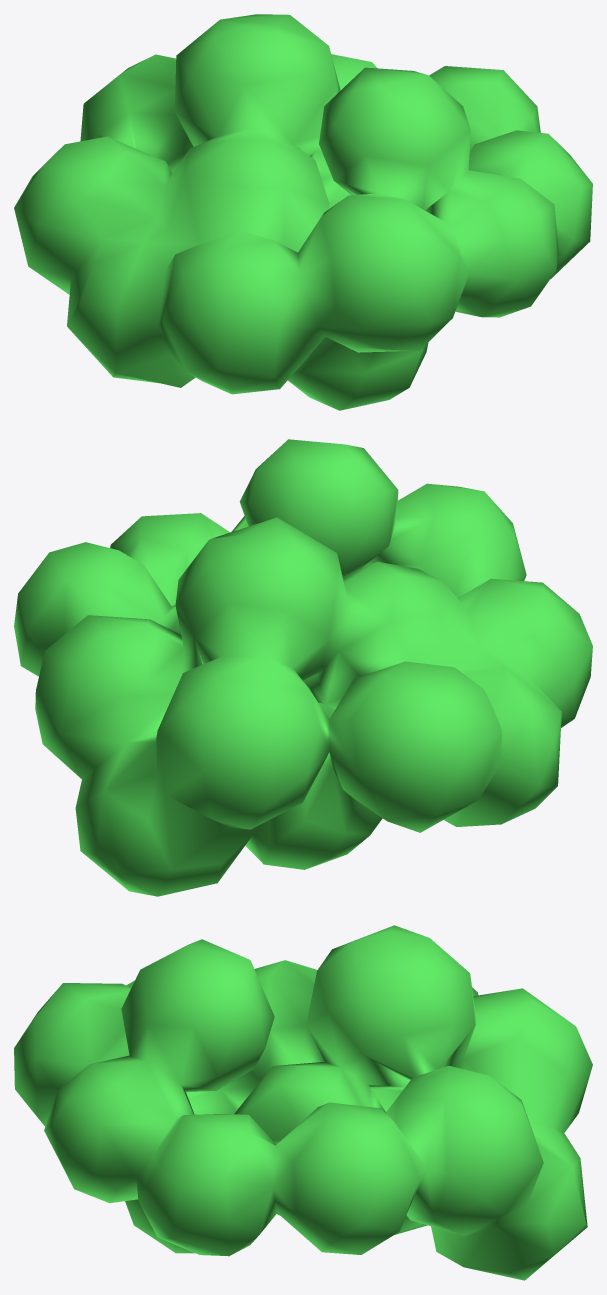
The model's file is SM_town_applejoin.fbx.
3 renders of one model, top to bottom at view 1: azimuth 30°, elevation 25°; view 2: azimuth 150°, elevation 25°; view 3: azimuth 270°, elevation 25°, orthographic. The views are drawn at different scales.
Parts seen in each view (by area): view 1: apple_join_low; view 2: apple_join_low; view 3: apple_join_low.
Boxes of the visible parts, box(x1,y1,x2,y2) form: apple_join_low: box(14, 14, 592, 410); apple_join_low: box(14, 439, 592, 896); apple_join_low: box(14, 925, 592, 1280).
Bounding box in the file's own units: 40.19 × 25.26 × 41.82.
